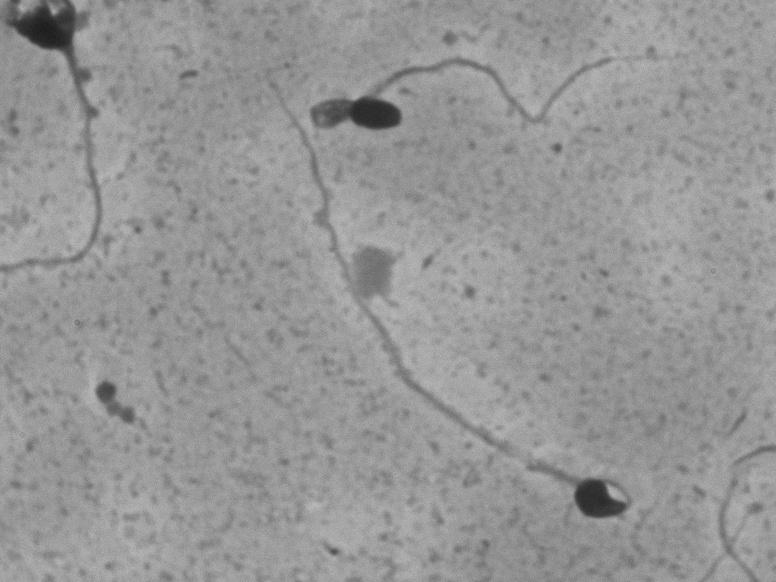Abnormal: (248, 61, 644, 535), (295, 36, 689, 157)
